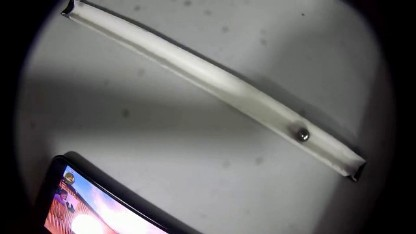gangzhu: (296, 128, 310, 141)
